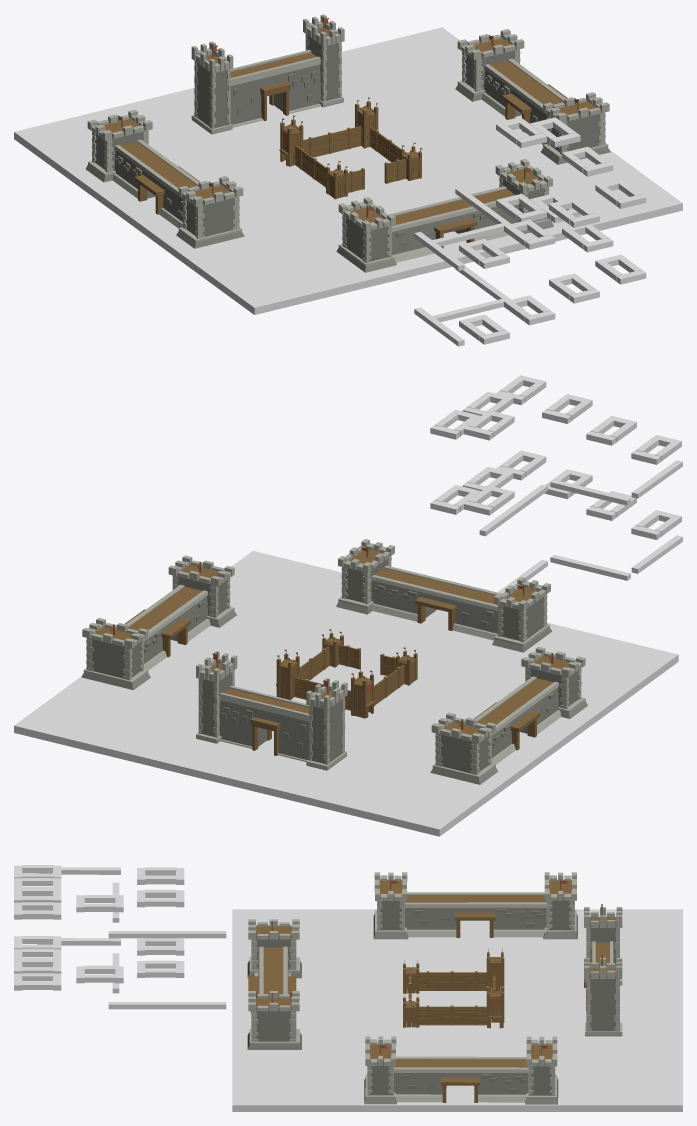
Rendered from mapok.glb.
3 renders of one model, top to bottom at view 1: azimuth 30°, elevation 25°; view 2: azimuth 150°, elevation 25°; view 3: azimuth 270°, elevation 25°, orthographic. The views are drawn at different scales.
Visible parts, largest first — view 1: 立方體, WallTowers_Door_SecondAge, WallTowers_Door_SecondAge.003, WallTowers_Door_SecondAge.004, WallTowers_Door_SecondAge.001, 立方體.020, WonderWalls_FirstAge, 立方體.007, 立方體.005, 立方體.004, 立方體.006, 立方體.010 (+4 smaller); view 2: 立方體, WallTowers_Door_SecondAge.004, WallTowers_Door_SecondAge, WallTowers_Door_SecondAge.003, WallTowers_Door_SecondAge.001, 立方體.020, WonderWalls_FirstAge, 立方體.010, 立方體.006, 立方體.009, 立方體.007, 立方體.002 (+1 smaller); view 3: 立方體, WallTowers_Door_SecondAge.003, WallTowers_Door_SecondAge.001, 立方體.020, WallTowers_Door_SecondAge.004, WonderWalls_FirstAge, WallTowers_Door_SecondAge, 立方體.001, 立方體.008, 立方體.009, 立方體.007, 立方體.010 (+4 smaller).
Part boxes in pixels (x1=…): 立方體: x1=14, y1=27, x2=682, y2=314; WallTowers_Door_SecondAge: x1=191, y1=14, x2=344, y2=134; WallTowers_Door_SecondAge.003: x1=85, y1=109, x2=244, y2=248; WallTowers_Door_SecondAge.004: x1=336, y1=159, x2=553, y2=272; WallTowers_Door_SecondAge.001: x1=455, y1=29, x2=610, y2=164; 立方體.020: x1=414, y1=117, x2=646, y2=270; WonderWalls_FirstAge: x1=279, y1=97, x2=422, y2=199; 立方體.007: x1=595, y1=254, x2=646, y2=284; 立方體.005: x1=504, y1=295, x2=555, y2=325; 立方體.004: x1=549, y1=273, x2=599, y2=303; 立方體.006: x1=459, y1=314, x2=509, y2=344; 立方體.010: x1=496, y1=193, x2=546, y2=221; 立方體: x1=14, y1=551, x2=678, y2=836; WallTowers_Door_SecondAge.004: x1=336, y1=539, x2=551, y2=652; WallTowers_Door_SecondAge: x1=196, y1=651, x2=347, y2=770; WallTowers_Door_SecondAge.003: x1=430, y1=646, x2=587, y2=784; WallTowers_Door_SecondAge.001: x1=81, y1=555, x2=236, y2=690; 立方體.020: x1=430, y1=375, x2=682, y2=536; WonderWalls_FirstAge: x1=276, y1=629, x2=417, y2=718; 立方體.010: x1=464, y1=485, x2=514, y2=515; 立方體.006: x1=631, y1=510, x2=681, y2=539; 立方體.009: x1=430, y1=485, x2=480, y2=514; 立方體.007: x1=496, y1=450, x2=546, y2=480; 立方體.002: x1=550, y1=555, x2=630, y2=580; 立方體: x1=232, y1=909, x2=682, y2=1111; WallTowers_Door_SecondAge.003: x1=373, y1=872, x2=577, y2=939; WallTowers_Door_SecondAge.001: x1=364, y1=1036, x2=558, y2=1104; 立方體.020: x1=14, y1=865, x2=226, y2=938; WallTowers_Door_SecondAge.004: x1=247, y1=919, x2=301, y2=1049; WonderWalls_FirstAge: x1=403, y1=948, x2=504, y2=1028; WallTowers_Door_SecondAge: x1=584, y1=904, x2=622, y2=1036; 立方體.001: x1=108, y1=1002, x2=226, y2=1009; 立方體.008: x1=76, y1=965, x2=123, y2=983; 立方體.009: x1=137, y1=960, x2=184, y2=977; 立方體.007: x1=14, y1=973, x2=61, y2=990; 立方體.010: x1=137, y1=938, x2=184, y2=955.
Bounding box in the file's own units: 33.63 × 11.87 × 48.55.
